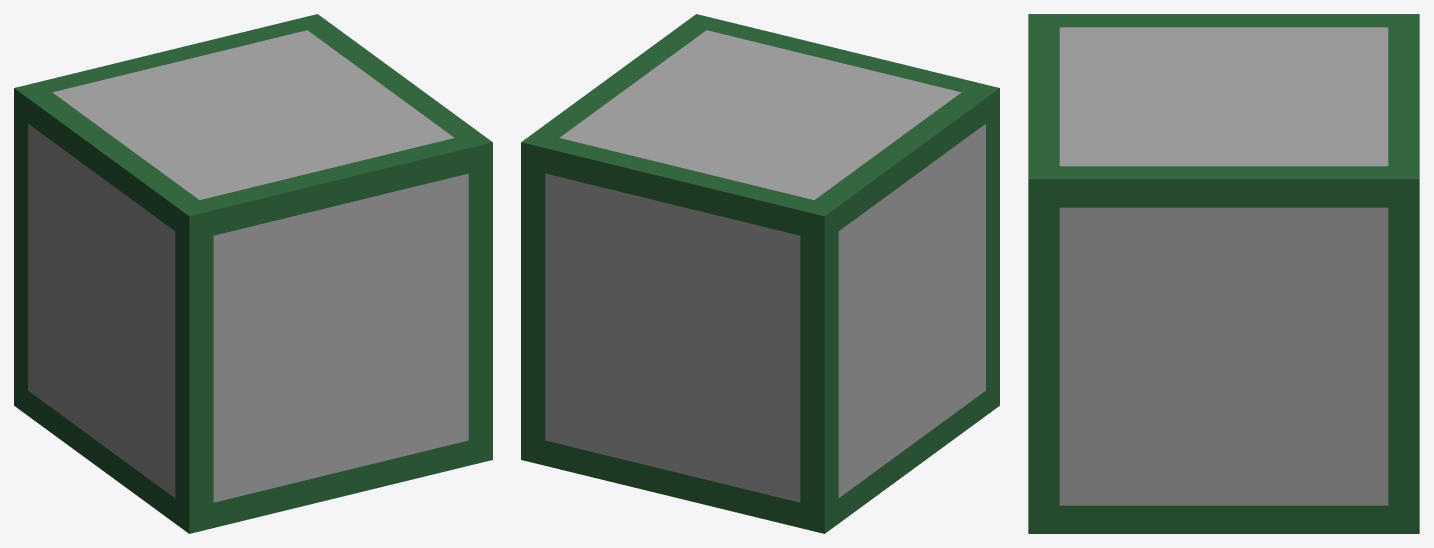
File: Letter Cube.fbx
3 renders of one model, left to right at view 1: azimuth 30°, elevation 25°; view 2: azimuth 150°, elevation 25°; view 3: azimuth 270°, elevation 25°, orthographic. The views are drawn at different scales.
Visible parts, largest first — view 1: pCube30; view 2: pCube30; view 3: pCube30.
Boxes of the visible parts, box(x1,y1,x2,y2) form: pCube30: box(14, 14, 492, 533); pCube30: box(521, 14, 999, 533); pCube30: box(1028, 14, 1419, 533).
Size of the model in its own units: 0.2473 by 0.2473 by 0.2473.
